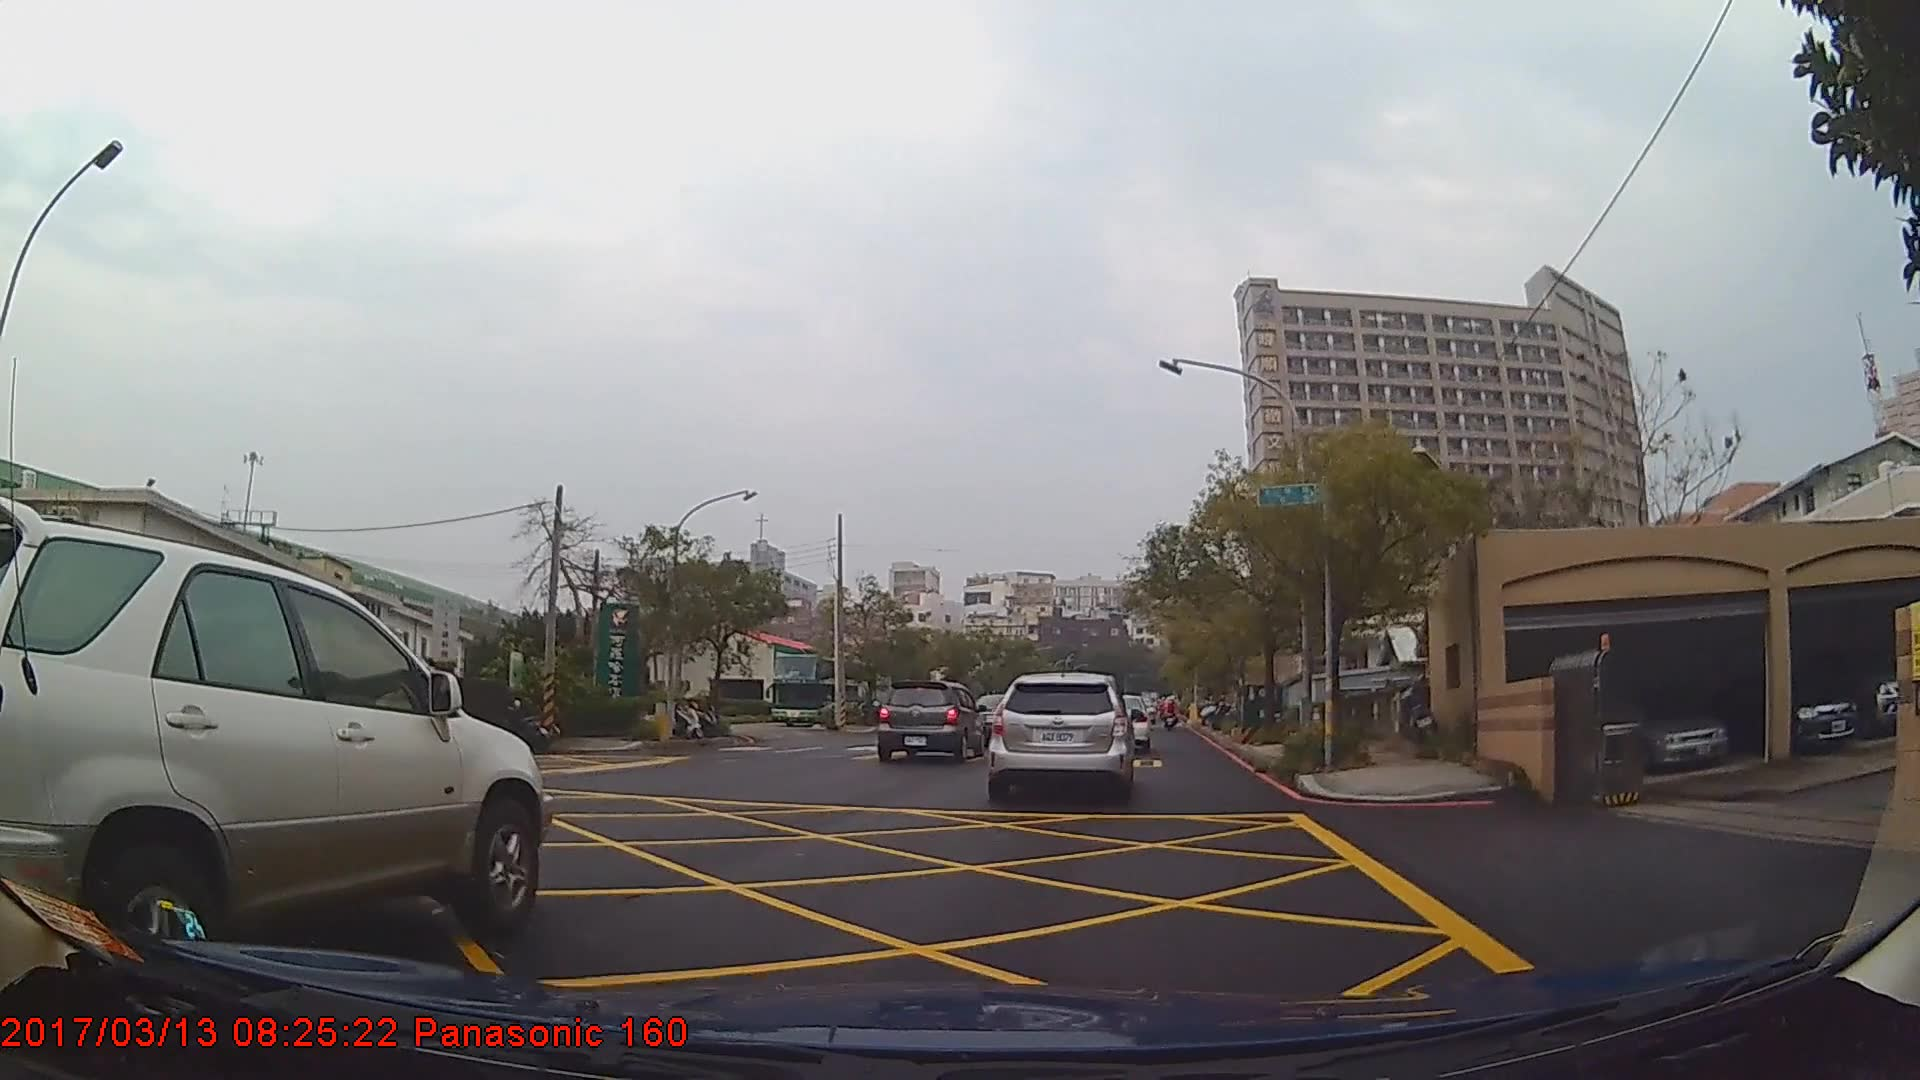vehicle: (0, 496, 551, 986), (986, 673, 1137, 804), (1609, 686, 1735, 771), (876, 680, 988, 762), (770, 651, 876, 727)
